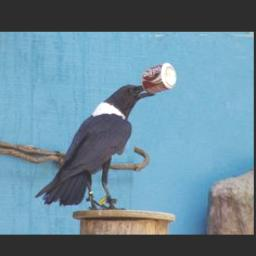Crow: (35, 82, 157, 212)
